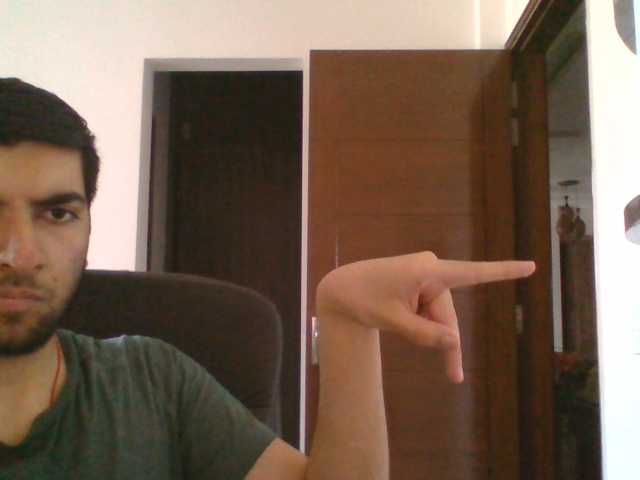LetterP: (313, 248, 537, 385)
